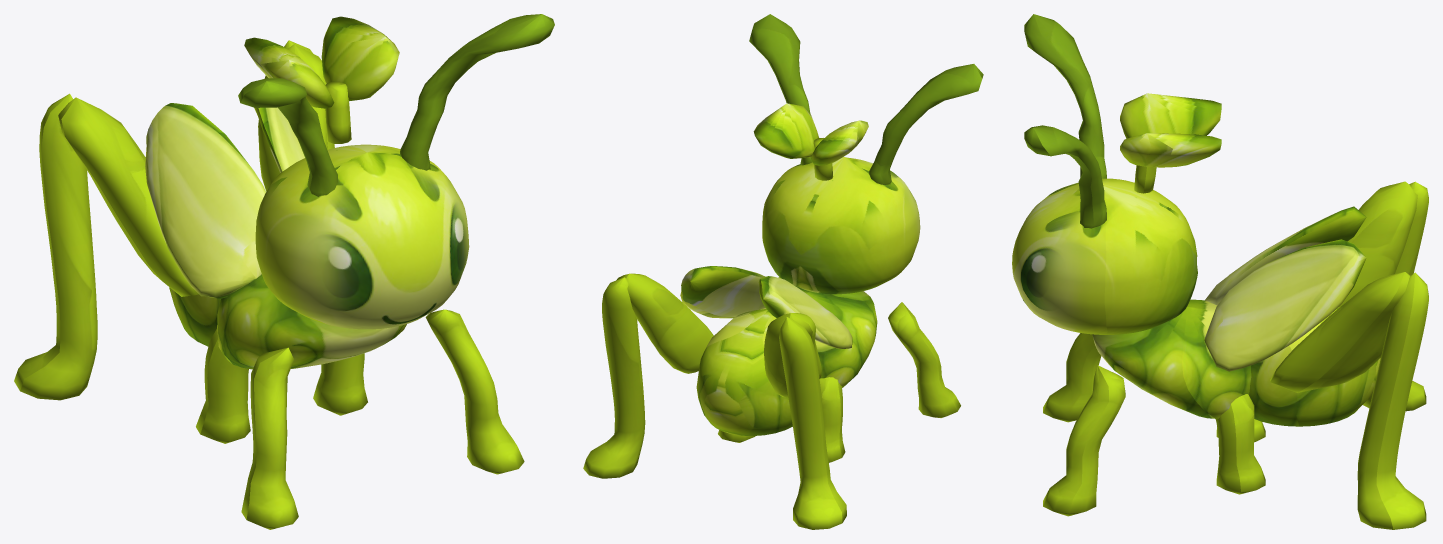
The model's file is hopsprout.glb.
3 renders of one model, left to right at view 1: azimuth 30°, elevation 25°; view 2: azimuth 150°, elevation 25°; view 3: azimuth 270°, elevation 25°, orthographic. The views are drawn at different scales.
Visible parts, largest first — view 1: hopsprout; view 2: hopsprout; view 3: hopsprout.
Part boxes in pixels (box(x1,y1,x2,y2)): hopsprout: box(14, 14, 554, 529); hopsprout: box(583, 14, 983, 529); hopsprout: box(1012, 14, 1428, 529).
Size of the model in its own units: 0.3422 by 0.4475 by 0.4231.
Materials: 1 (1 with a texture image).
